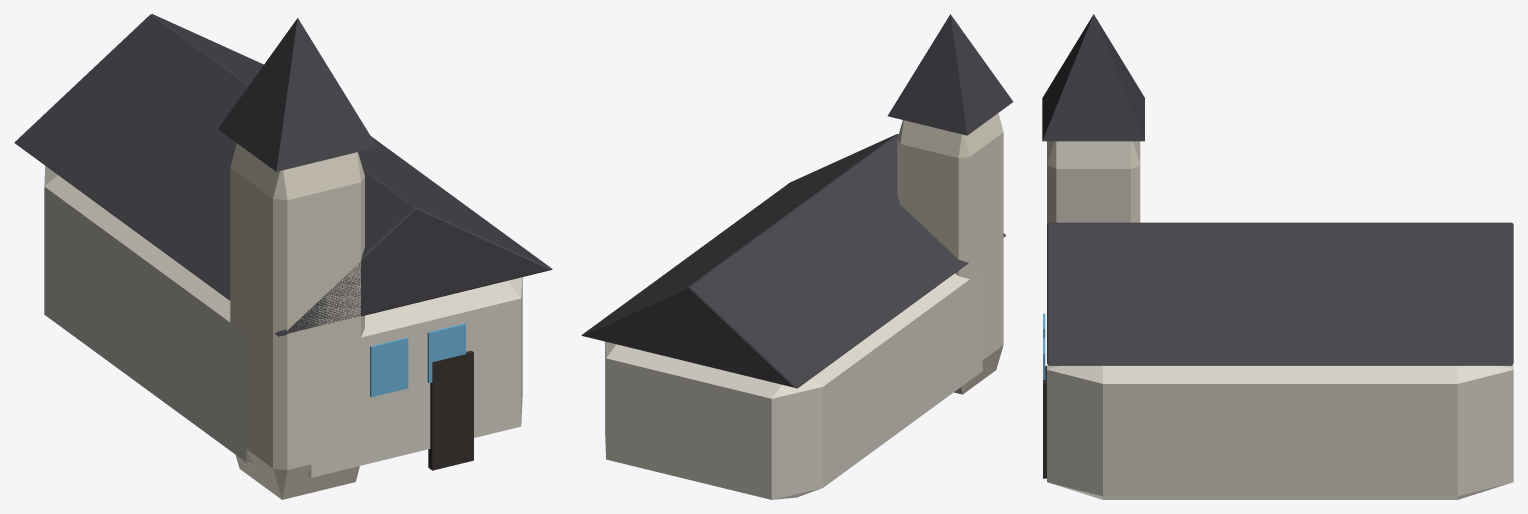
File: church_gothic_s.glb
3 renders of one model, left to right at view 1: azimuth 30°, elevation 25°; view 2: azimuth 150°, elevation 25°; view 3: azimuth 270°, elevation 25°, orthographic. The views are drawn at different scales.
Visible parts, largest first — view 1: roof, walls, towr, pyr, arch, win, win.001; view 2: roof, walls, towr, pyr; view 3: roof, walls, pyr, towr.
Boxes of the visible parts, bbox=[...] form: roof: bbox=[14, 14, 552, 336]; walls: bbox=[44, 166, 522, 477]; towr: bbox=[230, 143, 364, 499]; pyr: bbox=[218, 18, 377, 171]; arch: bbox=[428, 350, 473, 470]; win: bbox=[370, 337, 408, 397]; win.001: bbox=[427, 323, 465, 383]; roof: bbox=[581, 134, 1005, 388]; walls: bbox=[605, 271, 982, 499]; towr: bbox=[897, 113, 1003, 394]; pyr: bbox=[887, 14, 1013, 135]; roof: bbox=[1047, 222, 1513, 365]; walls: bbox=[1047, 363, 1513, 499]; pyr: bbox=[1042, 14, 1144, 141]; towr: bbox=[1047, 141, 1140, 223].
Size of the model in its own units: 12.2 by 19 by 20.2.
